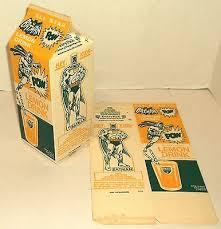Tetra pack: (5, 5, 221, 229)
